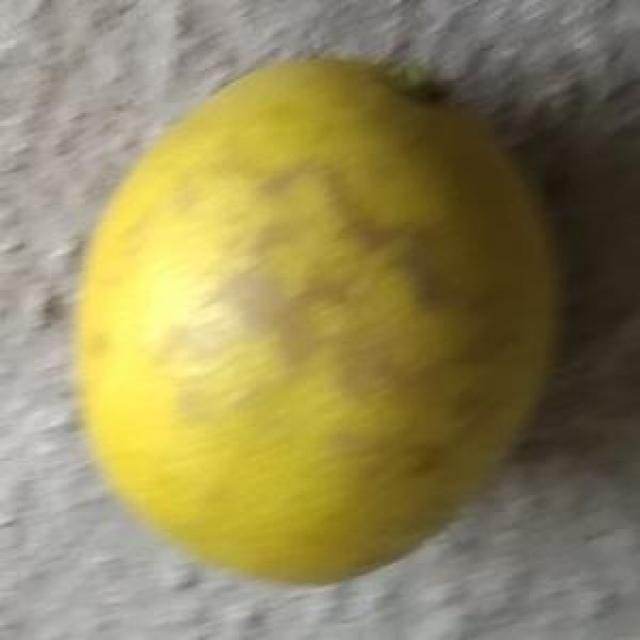lemon: (78, 57, 550, 591)
